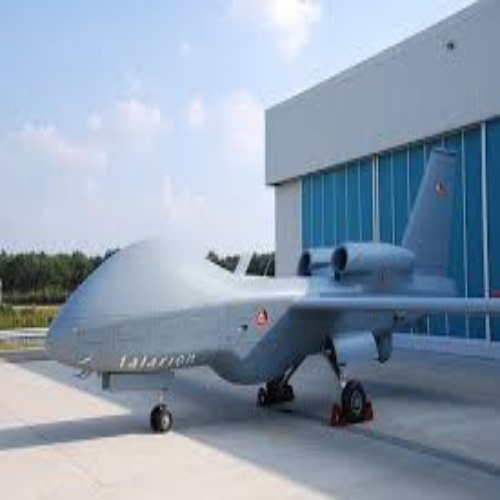uav: (2, 148, 500, 436)
